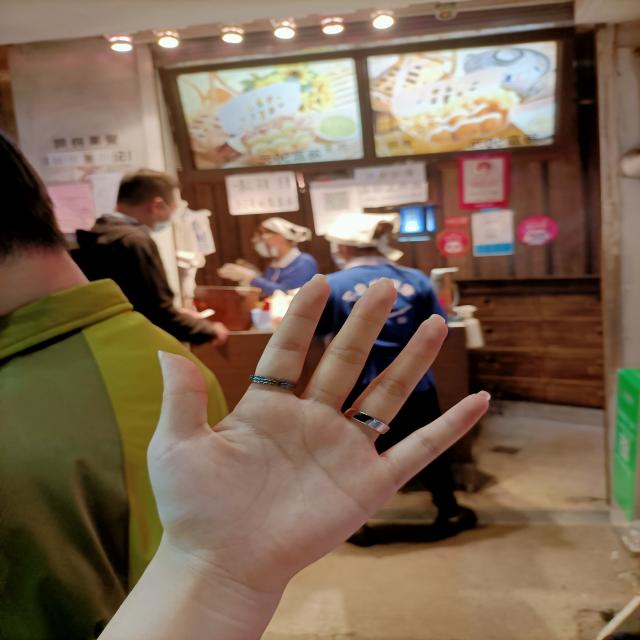no_glove: (133, 253, 503, 583)
